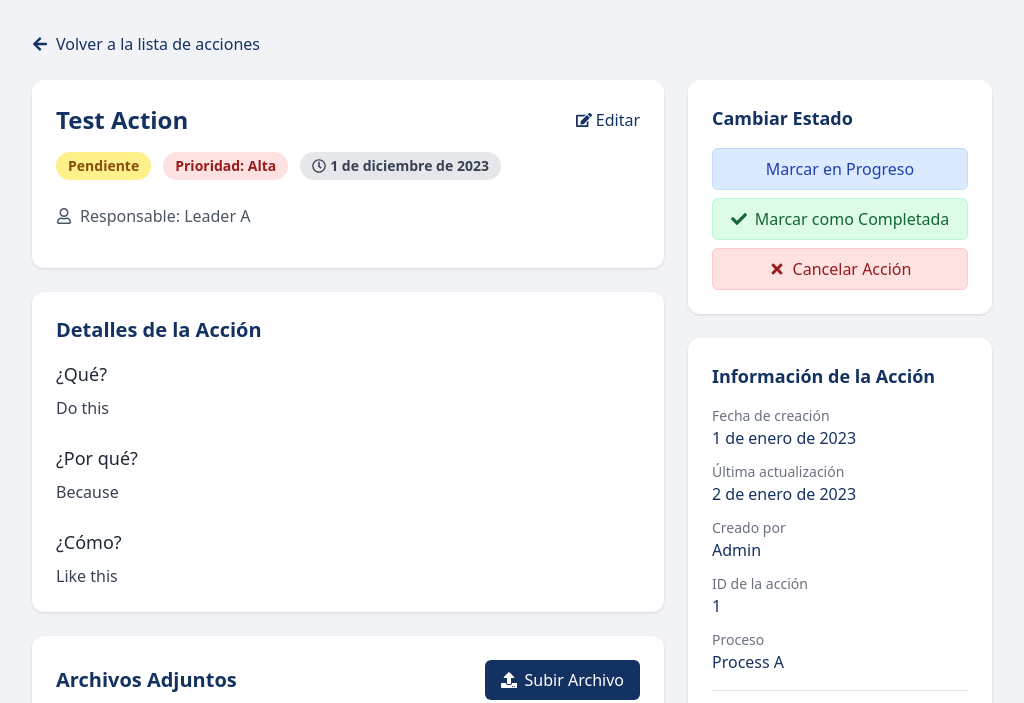
Test: ActionDetail › should show validation errors when editing with empty fields
Expected: the heading "Test Action" is shown, [56,104,188,136]
Step 1. Click the button "Editar" → (608, 120), box [576,108,640,132]
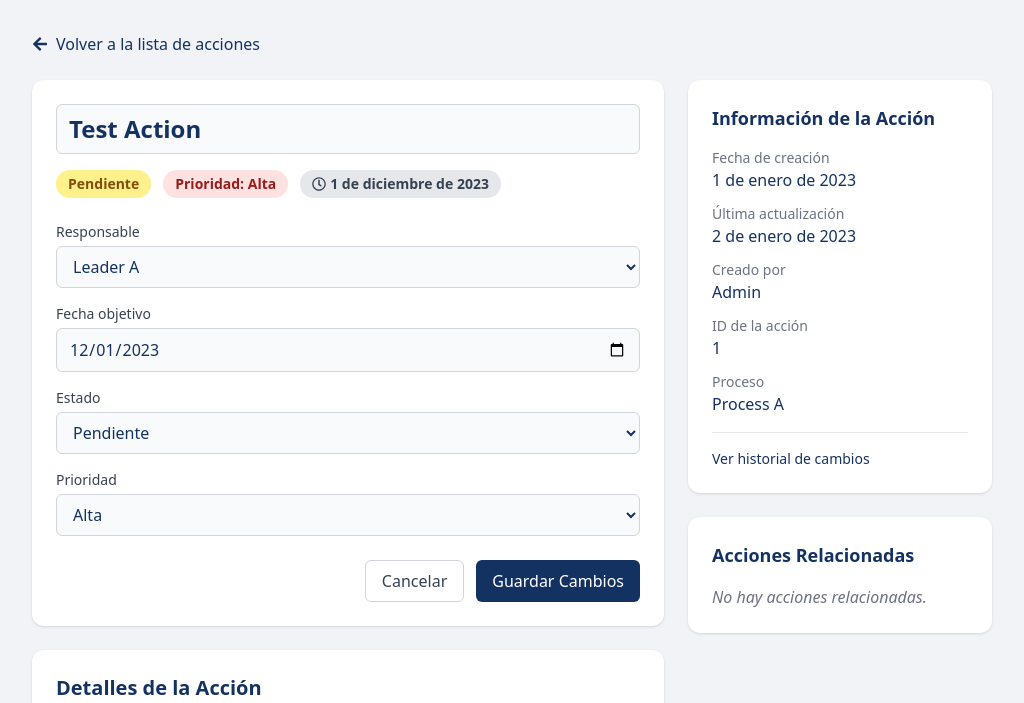
Step 2. Clear the field showing "Test Action" → (348, 129), box [56,104,640,154]
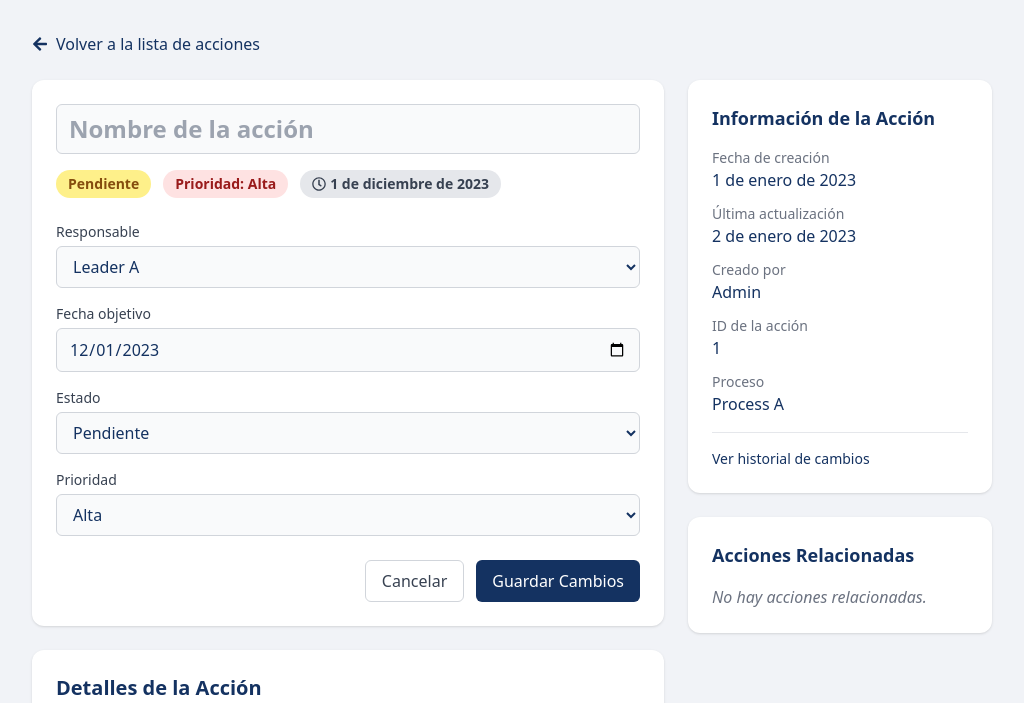
Step 3. Click the button "Guardar Cambios" → (558, 581), box [476,560,640,602]
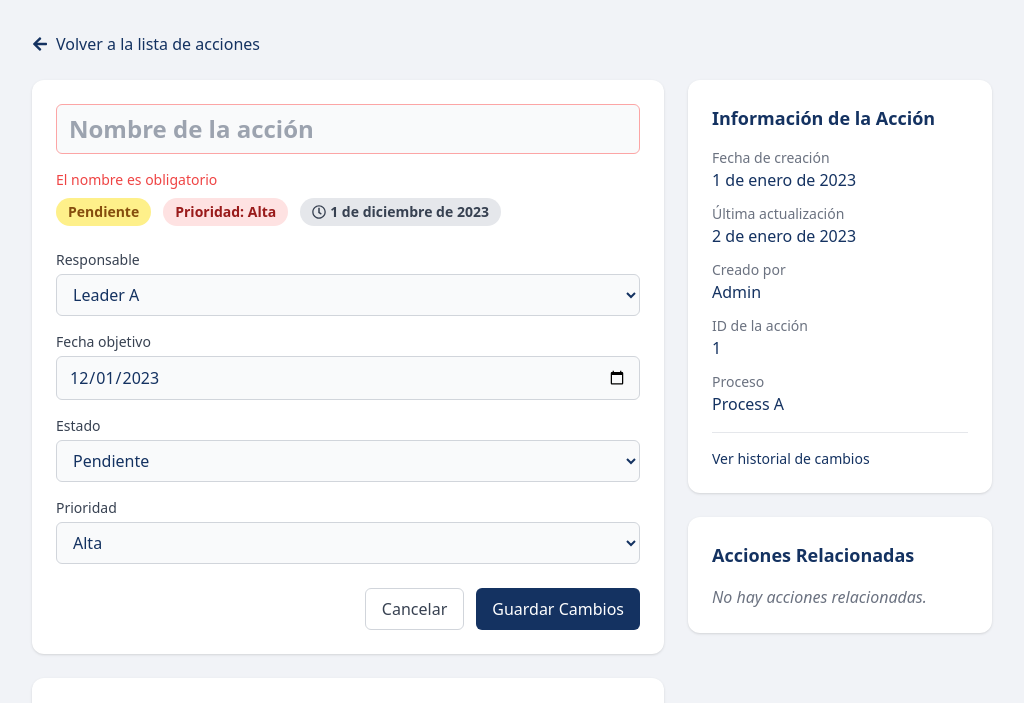
Now the text "El nombre es obligatorio" is shown, box [56,170,217,189]
